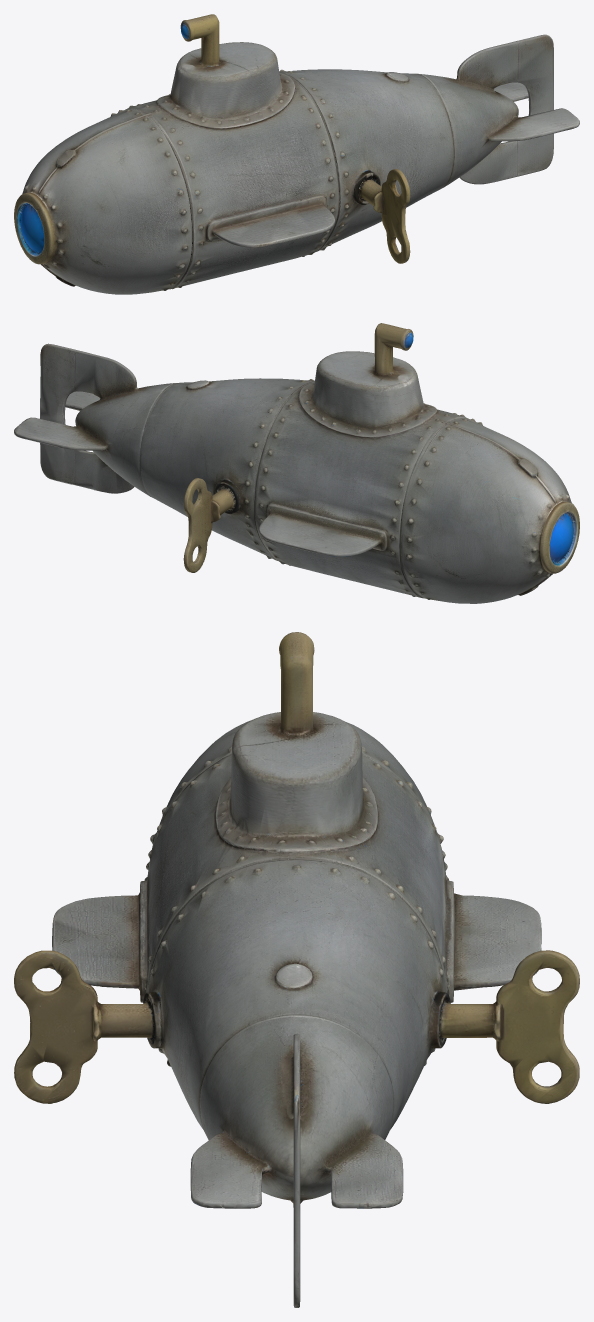
3 renders of one model, top to bottom at view 1: azimuth 30°, elevation 25°; view 2: azimuth 150°, elevation 25°; view 3: azimuth 270°, elevation 25°, orthographic. The views are drawn at different scales.
Parts seen in each view (by area): view 1: Mesh_0; view 2: Mesh_0; view 3: Mesh_0.
Boxes of the visible parts, box(x1,y1,x2,y2) form: Mesh_0: box(14, 14, 579, 294); Mesh_0: box(14, 323, 579, 603); Mesh_0: box(14, 632, 579, 1307).
Bounding box in the file's own units: 1.9 × 0.8684 × 1.07.
Materials: 1 (1 with a texture image).
